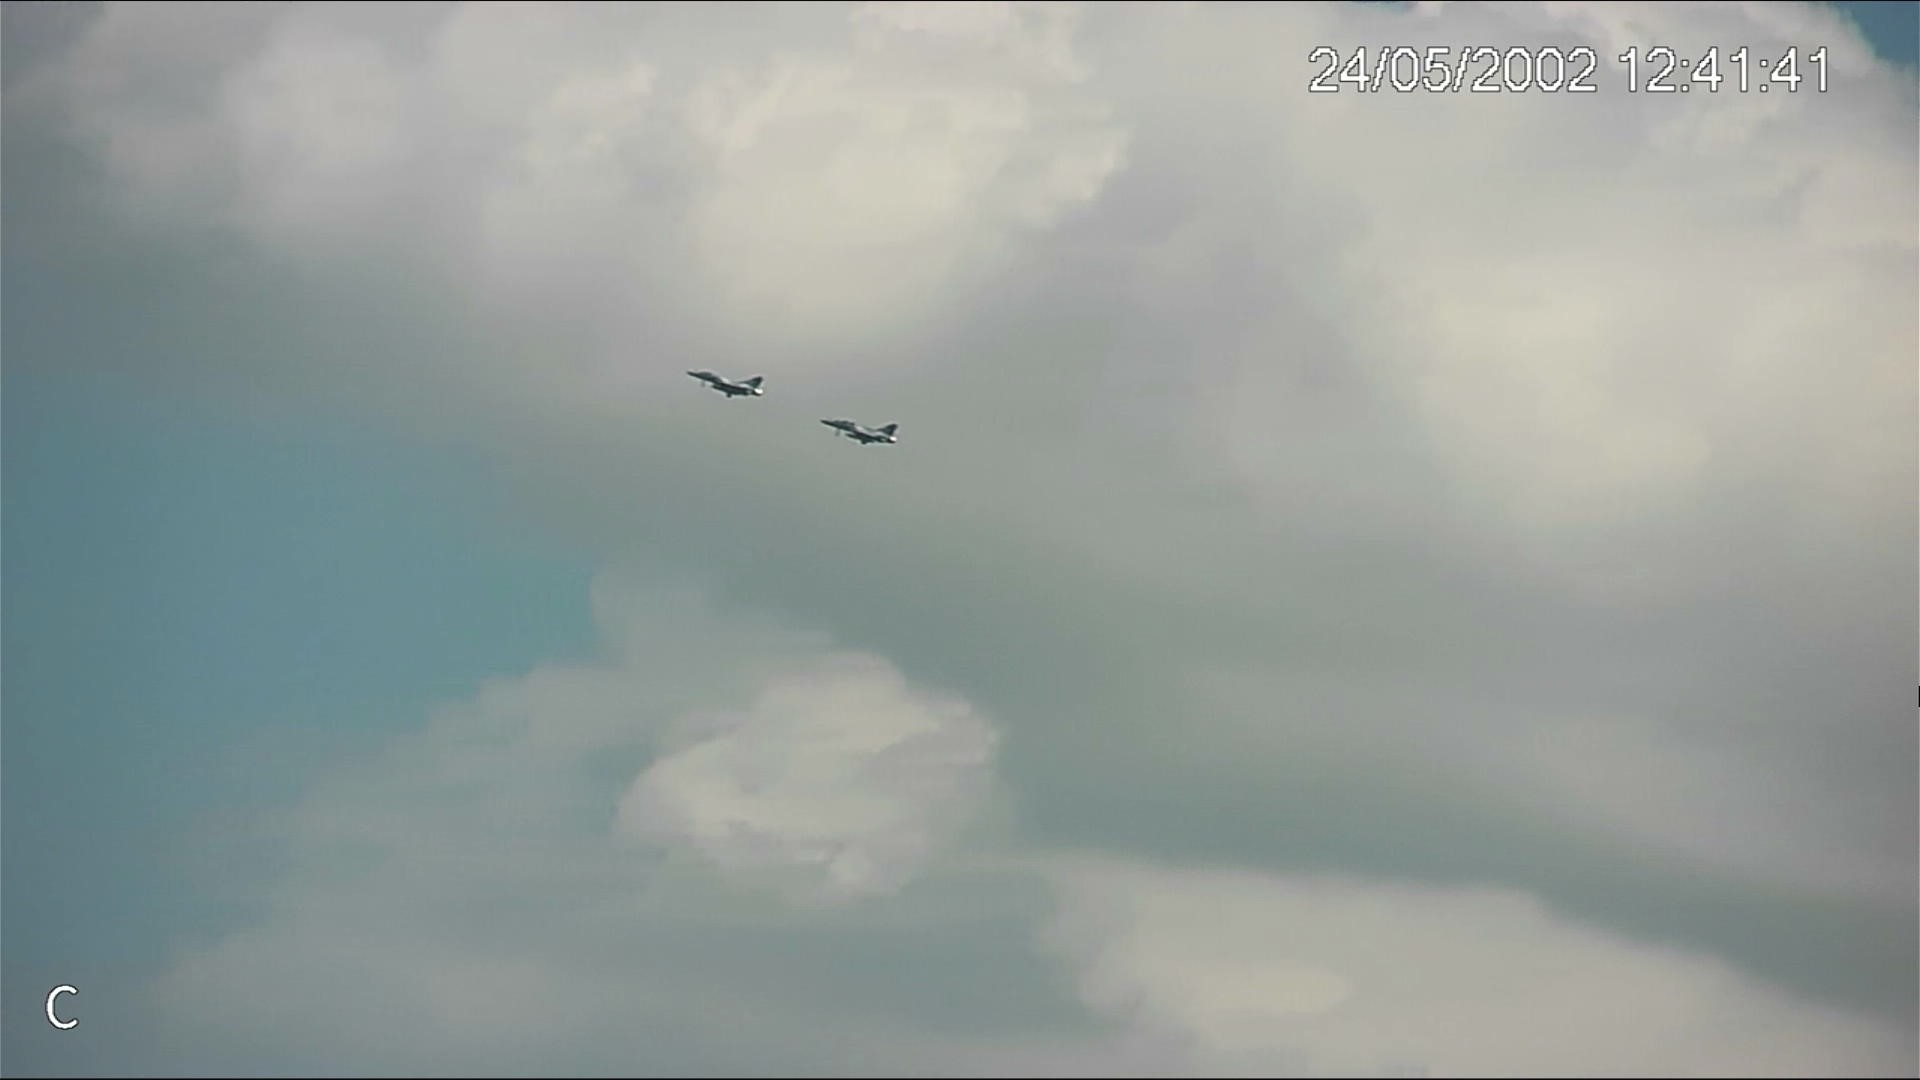SU_30: (683, 369, 769, 400), (822, 415, 902, 444)
